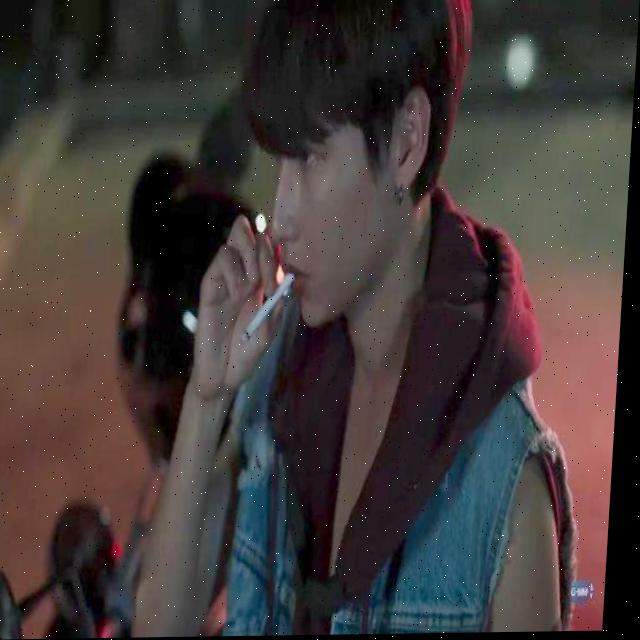cigarette: (245, 273, 296, 344)
